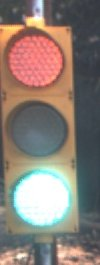Green: (2, 13, 89, 244)
